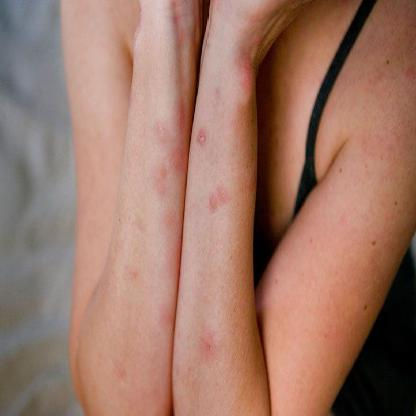Bed Bug: (205, 180, 231, 218), (235, 43, 254, 91), (174, 97, 190, 142), (197, 324, 218, 356), (150, 160, 166, 200), (151, 116, 168, 146), (125, 259, 143, 283), (402, 58, 416, 87), (171, 145, 186, 172), (156, 301, 171, 325), (164, 207, 175, 235), (114, 361, 130, 380), (194, 126, 207, 148), (245, 171, 256, 197), (212, 80, 222, 105)
